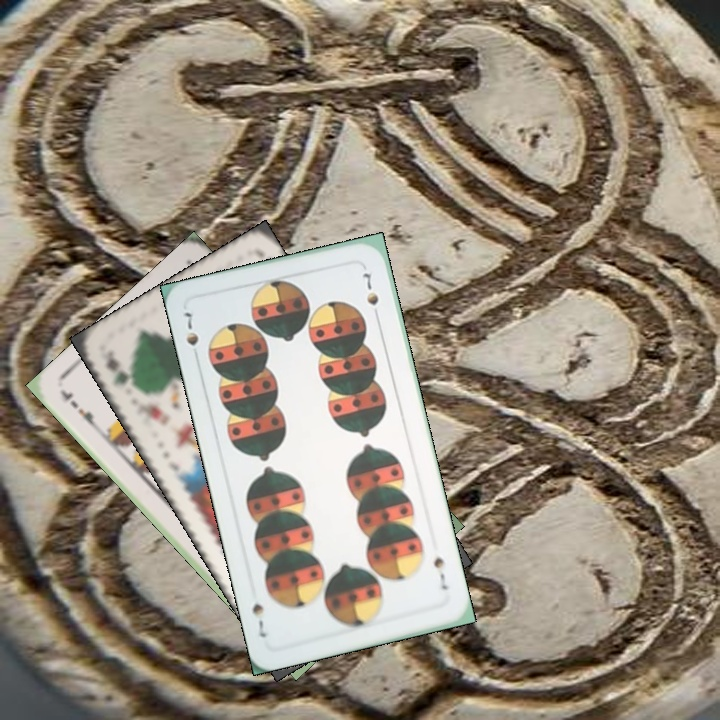E7: (56, 385, 102, 433)
GK: (96, 345, 141, 395)
S7: (177, 308, 202, 363), (429, 553, 450, 593)
